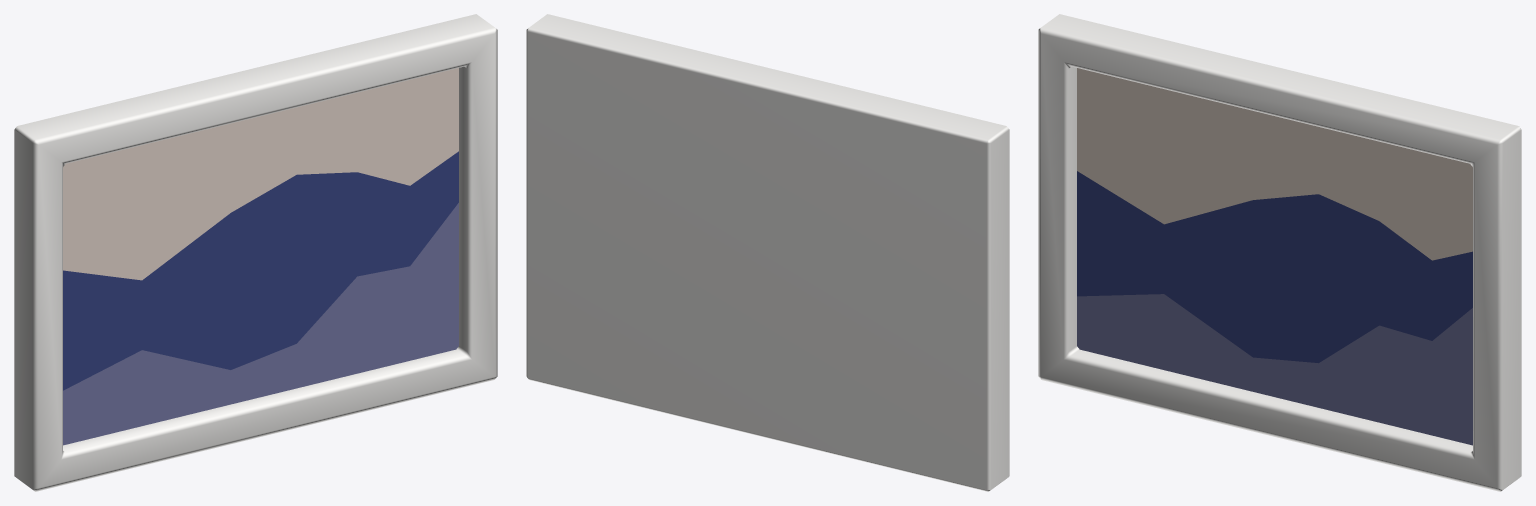
The model's file is Painting_9.glb.
3 views of the same model, side by side, from view 1: azimuth 30°, elevation 25°; view 2: azimuth 150°, elevation 25°; view 3: azimuth 330°, elevation 25° (orthographic).
Visible parts, largest first — view 1: Painting_9; view 2: Painting_9; view 3: Painting_9.
Boxes of the visible parts, box(x1,y1,x2,y2) form: Painting_9: box(14, 14, 497, 491); Painting_9: box(526, 14, 1009, 491); Painting_9: box(1038, 14, 1521, 491).
Size of the model in its own units: 1.4 by 1.01 by 0.1125.
1 material, 1 textured.
